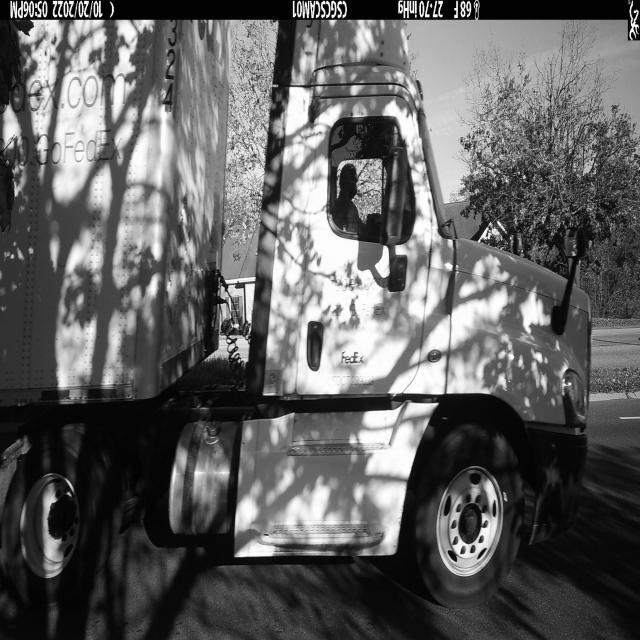Tractor Trailer: (0, 20, 592, 612)
